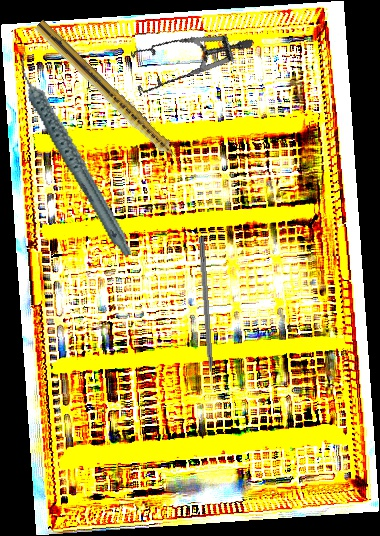Handpiece: (16, 40, 134, 270), (31, 19, 190, 173)
Hook Surgical: (197, 236, 215, 393)
Speculum: (118, 4, 254, 125)
